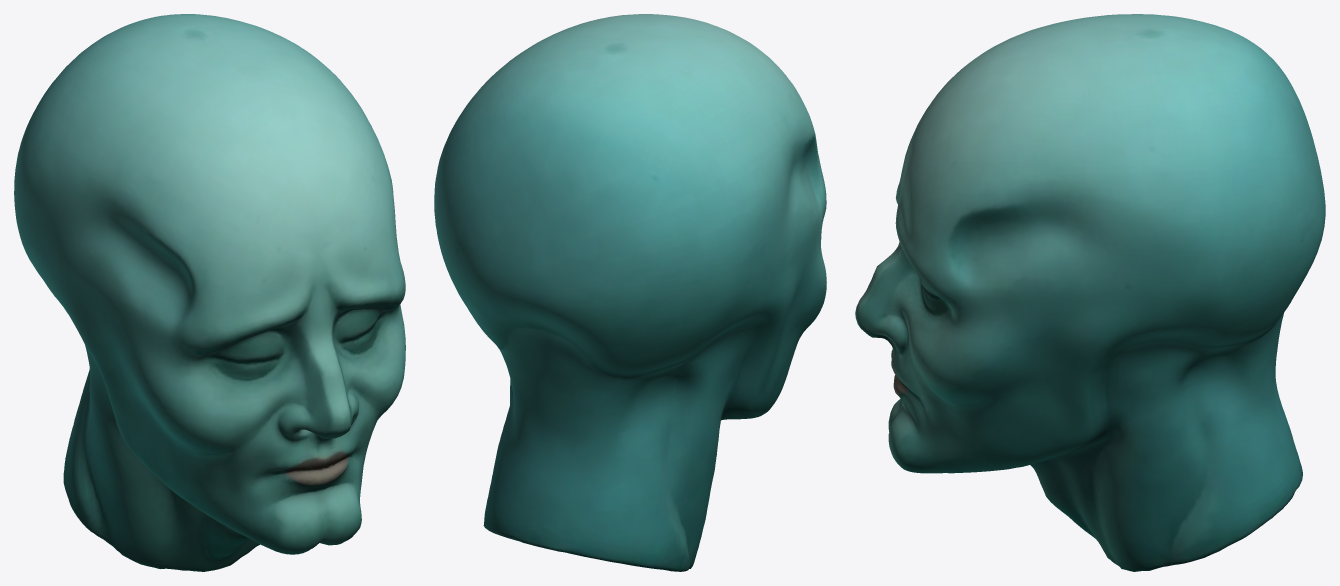
File: squid-transformed.glb
The picture shows the model from 3 angles, left to right: view 1: azimuth 30°, elevation 25°; view 2: azimuth 150°, elevation 25°; view 3: azimuth 270°, elevation 25°; orthographic projection.
Visible parts, largest first — view 1: Object_2; view 2: Object_2; view 3: Object_2.
Part boxes in pixels (box(x1,y1,x2,y2)): Object_2: box(14, 14, 405, 571); Object_2: box(434, 14, 826, 571); Object_2: box(855, 14, 1325, 571).
Size of the model in its own units: 1.98 by 3.21 by 2.64.
1 material, 1 textured.
